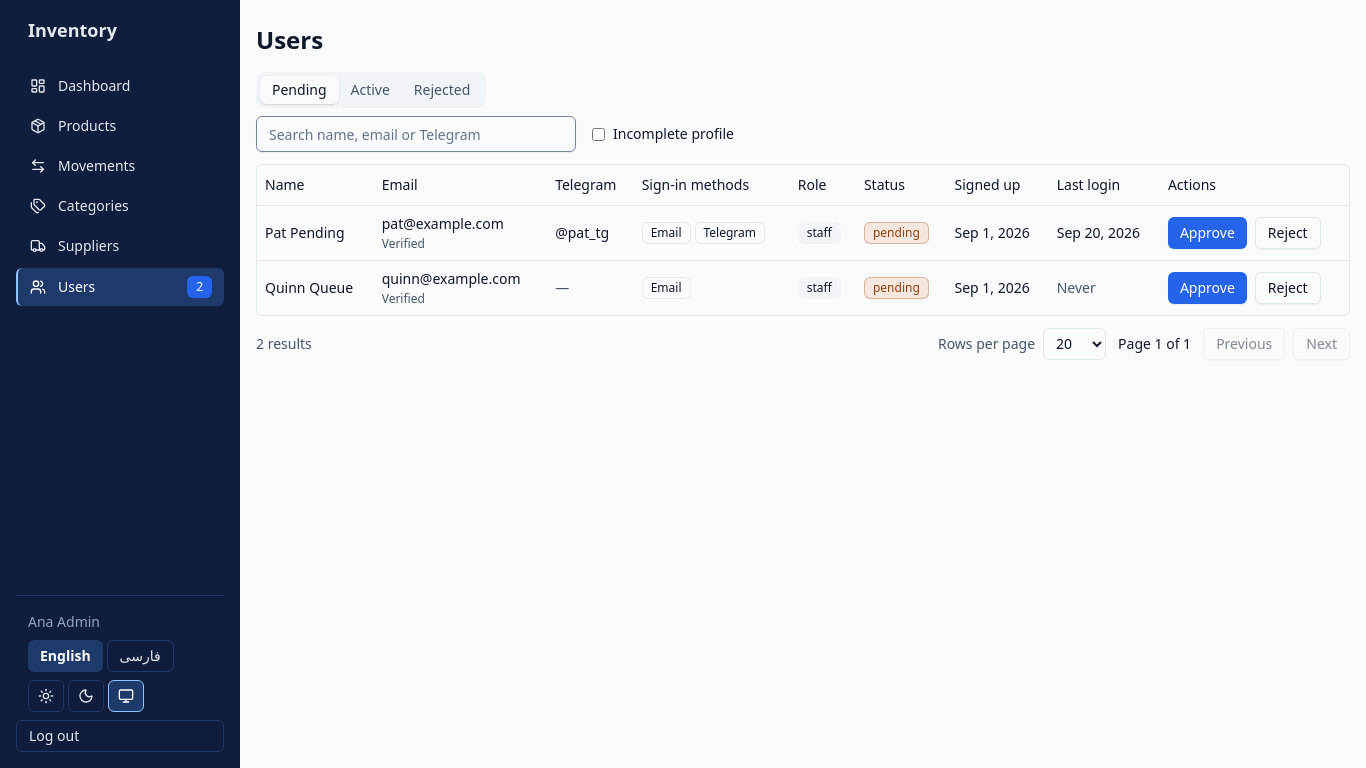
Test case: UsersPage tabs and table › searches by name, email or Telegram username
The image size is (1366, 768).
In the search field named "Search users": (416, 134) [256, 116, 576, 152], type "quinn"
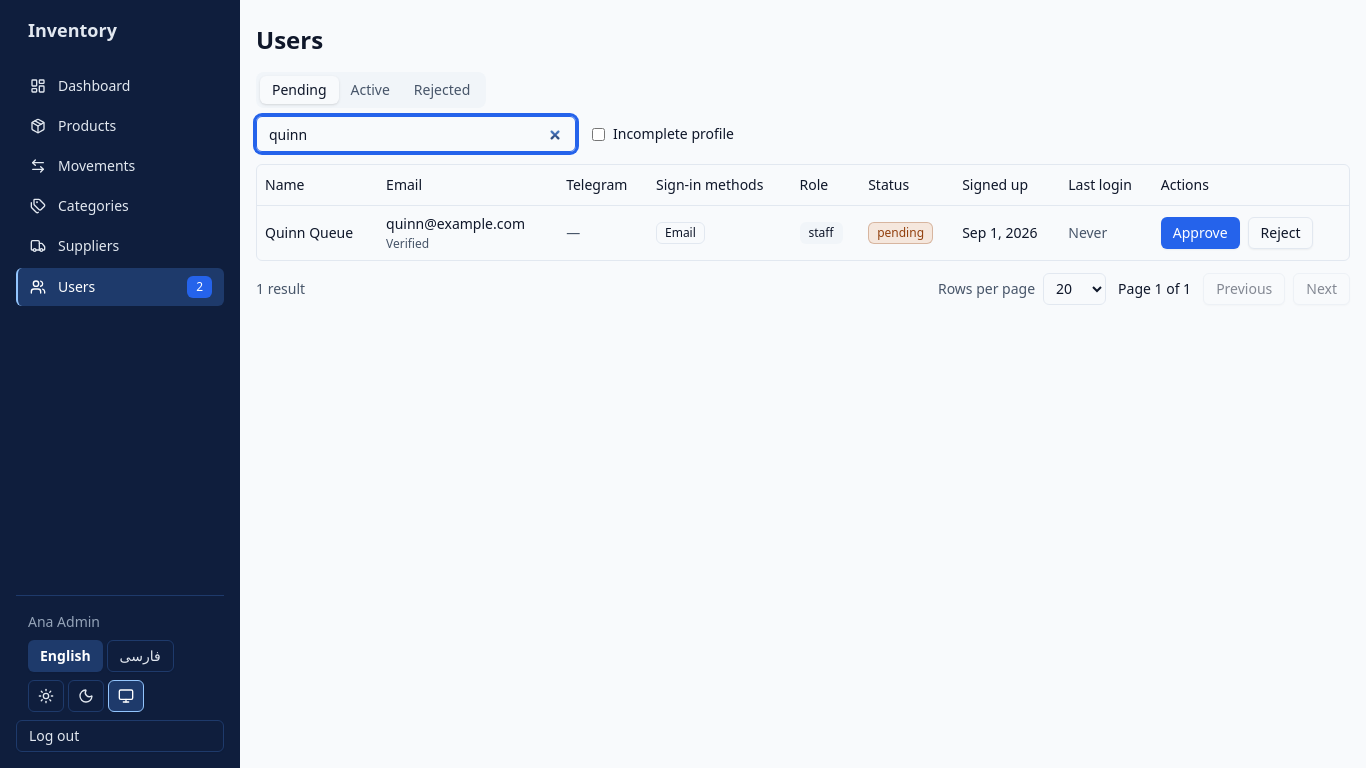
Expected: the row "Quinn Queue" is shown, [257, 205, 1349, 260]
Now the button "Pat Pending" is gone
